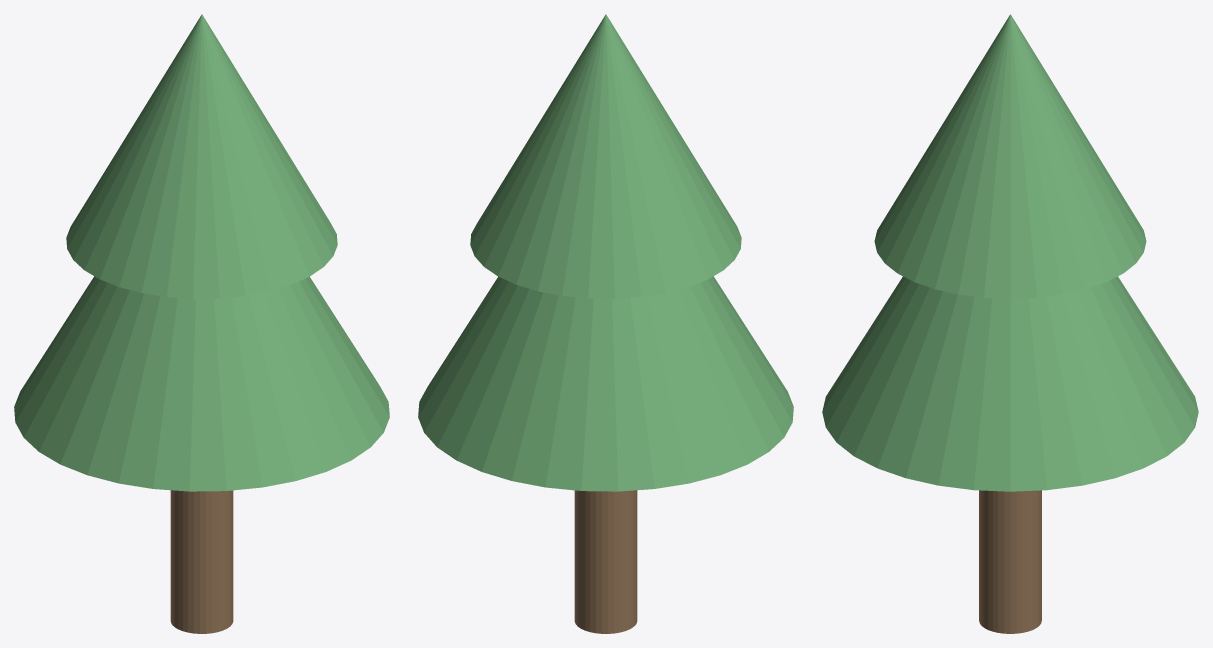
Rendered from tree.fbx.
3 views of the same model, side by side, from view 1: azimuth 30°, elevation 25°; view 2: azimuth 150°, elevation 25°; view 3: azimuth 270°, elevation 25° (orthographic).
Parts seen in each view (by area): view 1: Cone, Cone.001, Cylinder; view 2: Cone, Cone.001, Cylinder; view 3: Cone, Cone.001, Cylinder.
Boxes of the visible parts, left/top/right/bottom form: Cone: left=14, top=276, right=389, bottom=491; Cone.001: left=66, top=14, right=337, bottom=298; Cylinder: left=170, top=490, right=233, bottom=633; Cone: left=418, top=276, right=793, bottom=491; Cone.001: left=470, top=14, right=741, bottom=298; Cylinder: left=574, top=490, right=637, bottom=633; Cone: left=822, top=276, right=1198, bottom=491; Cone.001: left=874, top=14, right=1146, bottom=298; Cylinder: left=979, top=490, right=1041, bottom=633.
Size of the model in its own units: 180 by 320 by 180.
